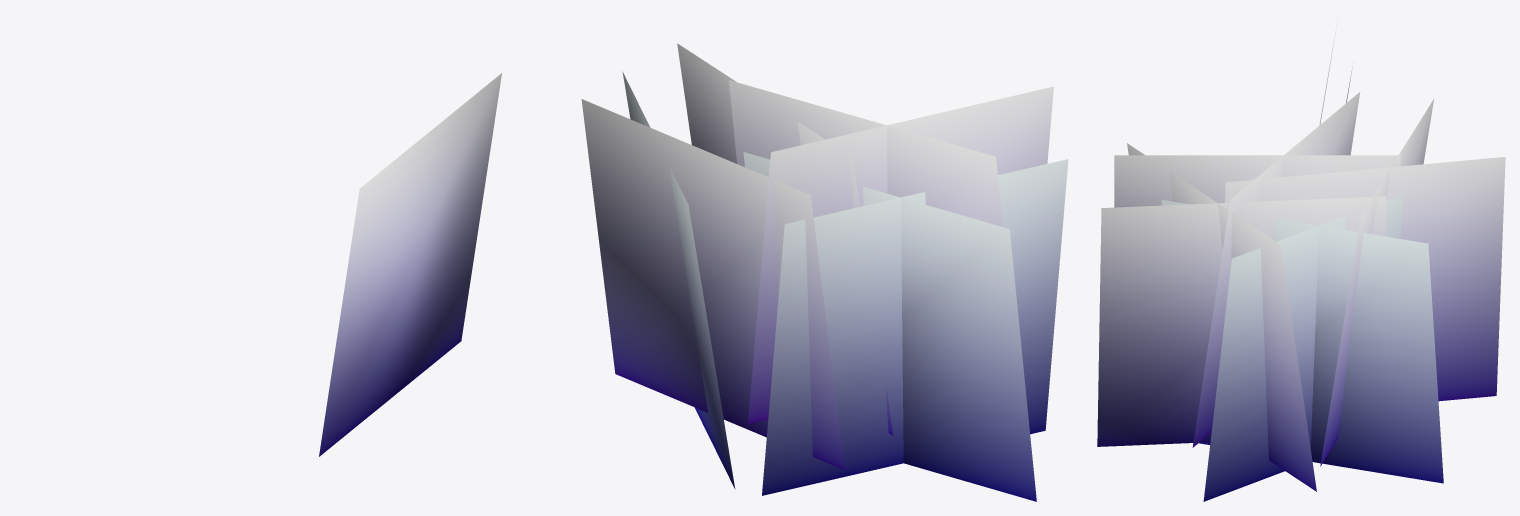
File: scrub.glb
3 renders of one model, left to right at view 1: azimuth 30°, elevation 25°; view 2: azimuth 150°, elevation 25°; view 3: azimuth 270°, elevation 25°, orthographic. The views are drawn at different scales.
Visible parts, largest first — view 1: v0_near; view 2: v0_near; view 3: v0_near.
Part boxes in pixels (box(x1,y1,x2,y2)): v0_near: box(319, 73, 501, 456); v0_near: box(581, 43, 1068, 501); v0_near: box(1097, 32, 1505, 501).
Bounding box in the file's own units: 1.68 × 1.21 × 1.43.
